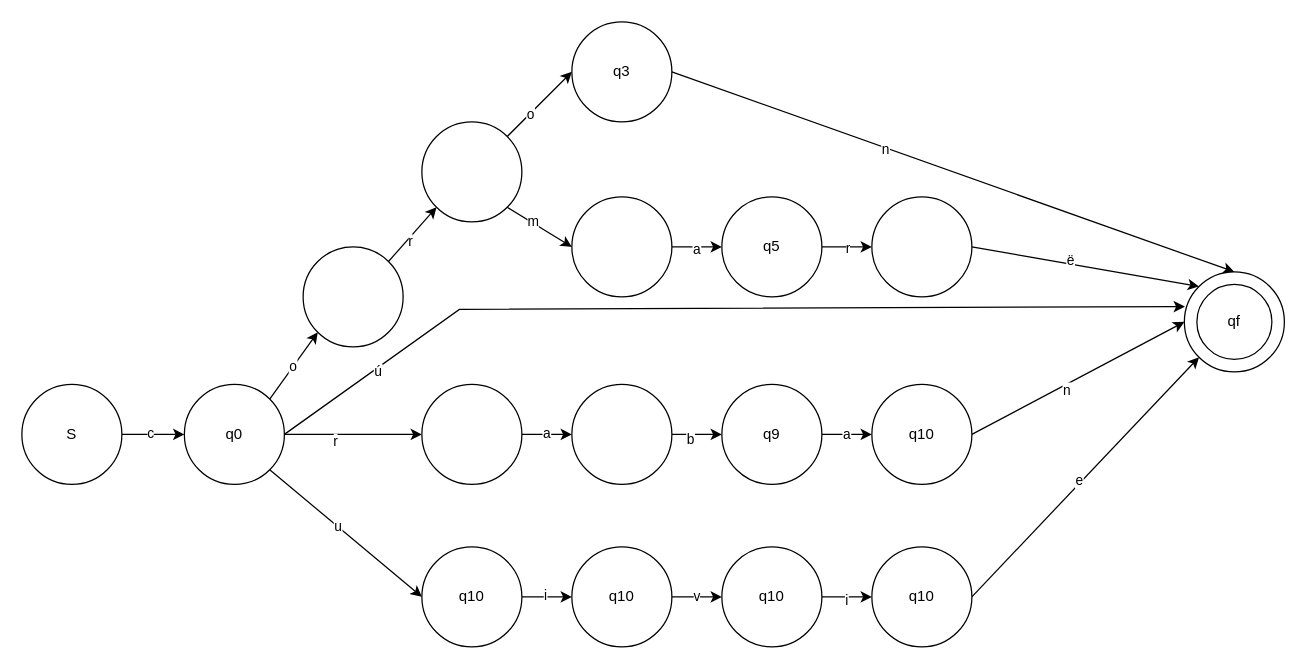
Some shapes in this 1306 by 669 pixel diagram are drawn without their labels. The shapes that lost their labels are listed below. From the top down, each one's box as (x1, y1, x2, y2) in pixels, then its label:
(421, 121, 522, 222): q2
(571, 196, 672, 297): q4
(871, 196, 972, 297): q6
(302, 246, 403, 347): q1
(421, 383, 522, 484): q7
(571, 383, 672, 484): q8
